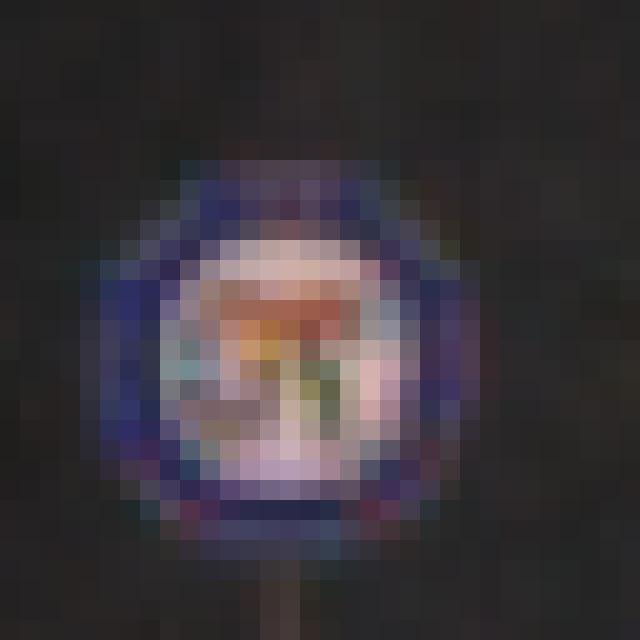SPEED LIMIT 70: (110, 189, 462, 535)
